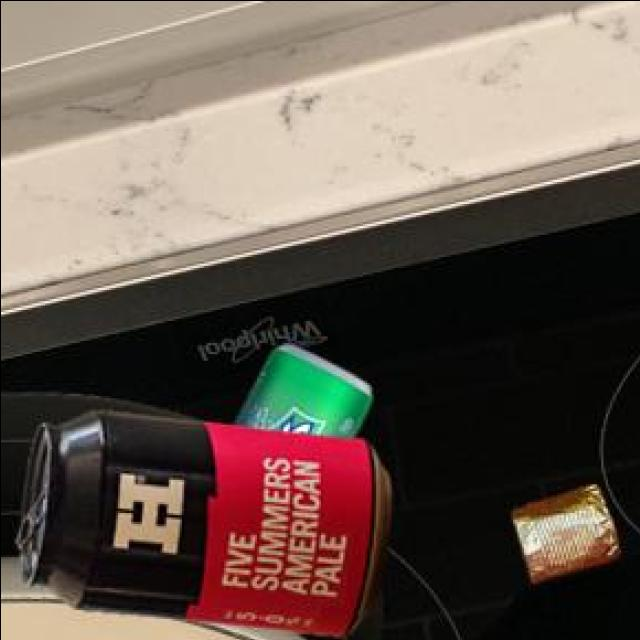logam: (19, 414, 394, 637), (237, 348, 374, 442), (515, 487, 621, 586)
